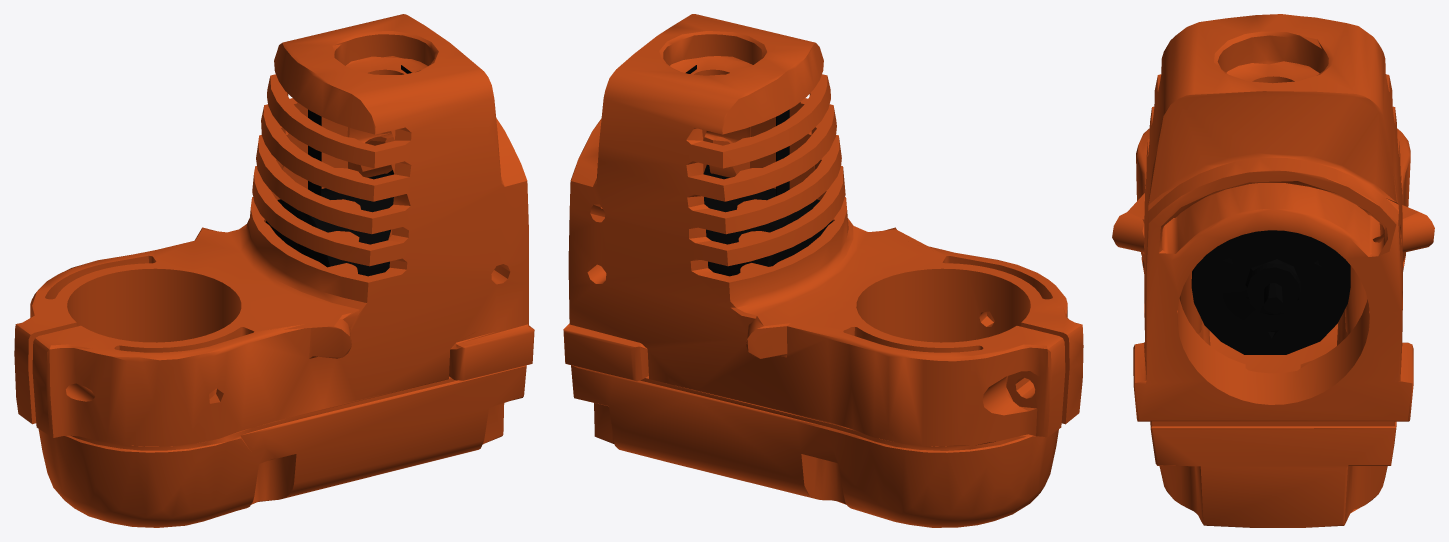
File: YoubotArm_Link4.dae
3 views of the same model, side by side, from view 1: azimuth 30°, elevation 25°; view 2: azimuth 150°, elevation 25°; view 3: azimuth 270°, elevation 25° (orthographic). The views are drawn at different scales.
Parts seen in each view (by area): view 1: arm_joint_4; view 2: arm_joint_4; view 3: arm_joint_4.
Part boxes in pixels (box(x1,y1,x2,y2)): arm_joint_4: box(14, 14, 534, 527); arm_joint_4: box(563, 14, 1083, 527); arm_joint_4: box(1112, 14, 1434, 527).
Bounding box in the file's own units: 0.1168 × 0.0669 × 0.0987.
